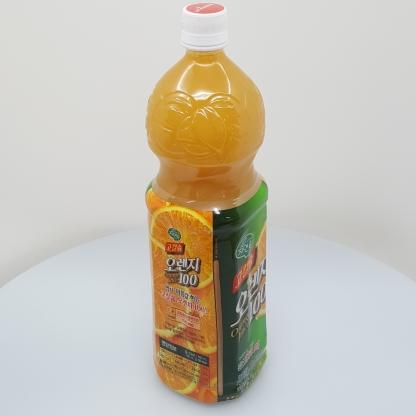--------1-5L: (145, 2, 269, 404)
